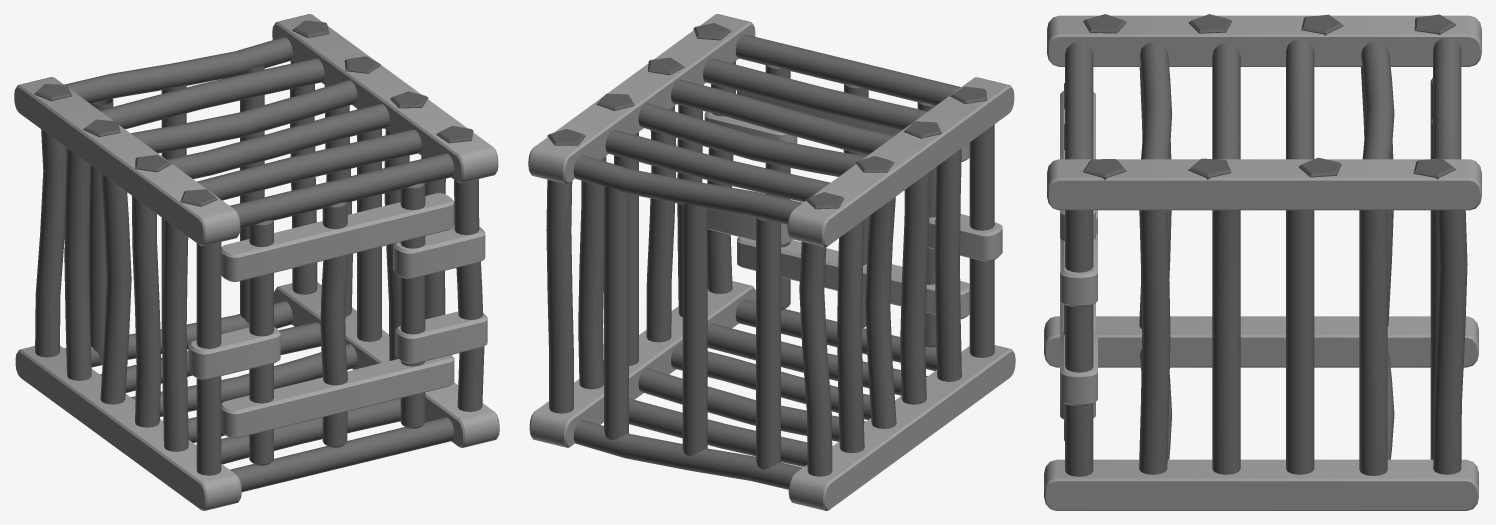
The model's file is Cage_2.fbx.
3 renders of one model, left to right at view 1: azimuth 30°, elevation 25°; view 2: azimuth 150°, elevation 25°; view 3: azimuth 270°, elevation 25°, orthographic. The views are drawn at different scales.
Visible parts, largest first — view 1: Cube.002, Cylinder.002; view 2: Cube.002, Cylinder.002; view 3: Cube.002, Cylinder.002.
Part boxes in pixels (<box>): Cube.002: <box>14,14,499,510</box>; Cylinder.002: <box>188,183,487,465</box>; Cube.002: <box>528,14,1015,510</box>; Cylinder.002: <box>704,64,1002,347</box>; Cube.002: <box>1044,14,1481,510</box>; Cylinder.002: <box>1060,83,1097,440</box>.
Bounding box in the file's own units: 4.76 × 4.61 × 5.37.
